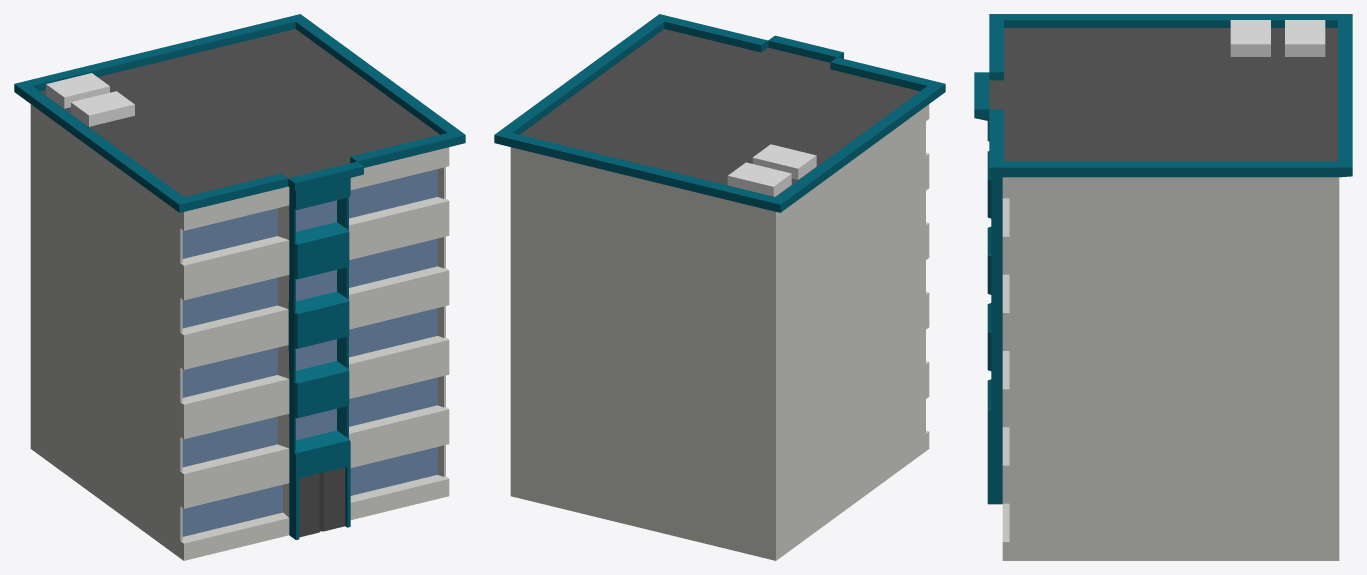
Rendered from Building_Blue.fbx.
3 renders of one model, left to right at view 1: azimuth 30°, elevation 25°; view 2: azimuth 150°, elevation 25°; view 3: azimuth 270°, elevation 25°, orthographic. The views are drawn at different scales.
Parts seen in each view (by area): view 1: pCube1, pCube3, pCube2; view 2: pCube1, pCube2, pCube3; view 3: pCube1, pCube3, pCube2.
Boxes of the visible parts, bbox=[...] form: pCube1: bbox=[14, 14, 465, 560]; pCube3: bbox=[71, 91, 134, 126]; pCube2: bbox=[46, 73, 109, 108]; pCube1: bbox=[494, 14, 945, 560]; pCube2: bbox=[727, 162, 791, 196]; pCube3: bbox=[752, 144, 816, 179]; pCube1: bbox=[974, 14, 1352, 560]; pCube3: bbox=[1230, 20, 1270, 56]; pCube2: bbox=[1285, 20, 1325, 56].
Bounding box in the file's own units: 4.31 × 5.29 × 4.49.
